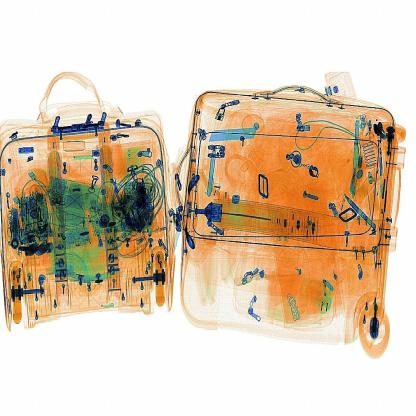pliers: (204, 119, 260, 149)
